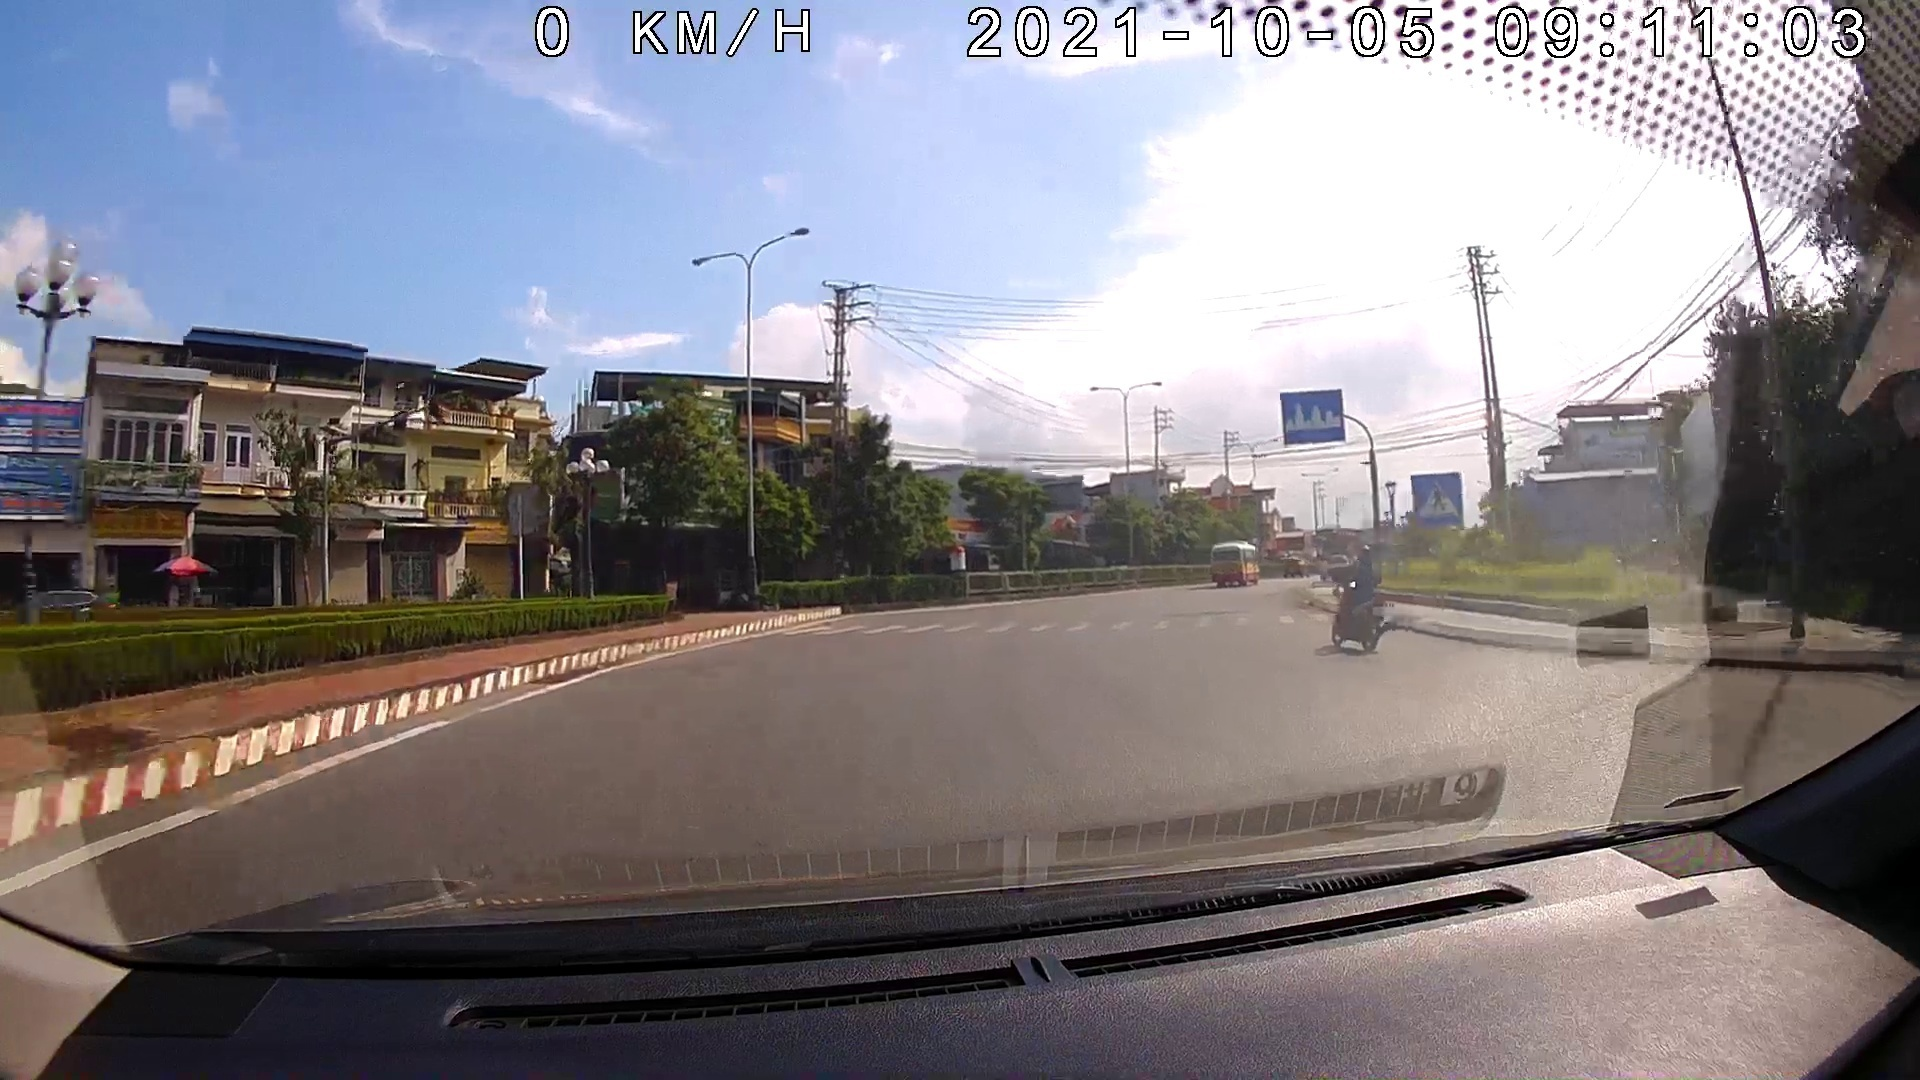Bien khac: (1279, 386, 1348, 440)
Nguoi di bo: (1410, 469, 1462, 527)
